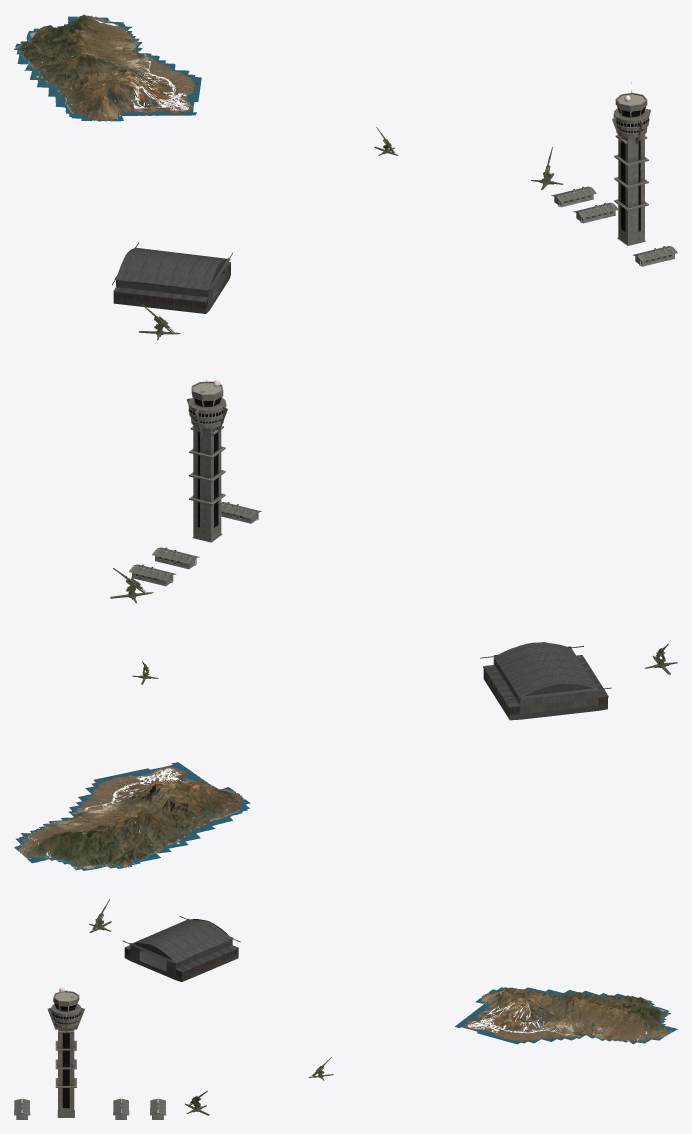
Rendered from Formosa.glb.
3 views of the same model, one above another, from view 1: azimuth 30°, elevation 25°; view 2: azimuth 150°, elevation 25°; view 3: azimuth 270°, elevation 25° (orthographic). The views are drawn at different scales.
Visible parts, largest first — view 1: ASTGTMV003_N17W026_dem_27.001, Object_2, Tower_AirTower01MAT_0, Object_2.001, Object_2.003, Object_2.002; view 2: ASTGTMV003_N17W026_dem_27.001, Object_2, Tower_AirTower01MAT_0; view 3: ASTGTMV003_N17W026_dem_27.001, Object_2, Tower_AirTower01MAT_0.
Boxes of the visible parts, x1,y1,x2,y2 form: ASTGTMV003_N17W026_dem_27.001: (14, 14, 201, 121); Object_2: (112, 242, 232, 313); Tower_AirTower01MAT_0: (612, 81, 650, 245); Object_2.001: (633, 246, 677, 266); Object_2.003: (551, 186, 596, 207); Object_2.002: (573, 202, 618, 223); ASTGTMV003_N17W026_dem_27.001: (14, 762, 250, 870); Object_2: (480, 642, 611, 720); Tower_AirTower01MAT_0: (187, 379, 227, 542); ASTGTMV003_N17W026_dem_27.001: (455, 987, 677, 1044); Object_2: (122, 916, 240, 981); Tower_AirTower01MAT_0: (47, 987, 84, 1117).
Bounding box in the file's own units: 202 × 64.79 × 285.
12 materials, 6 textured.
